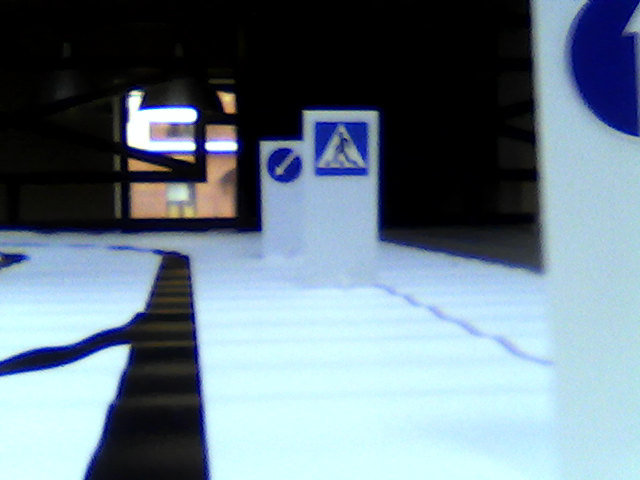pesh: (312, 118, 370, 177)
prep: (265, 149, 302, 183)
